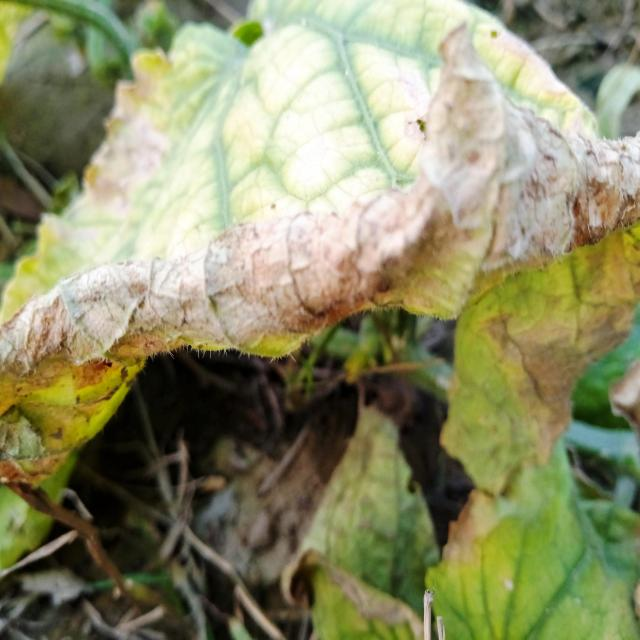Gummy-Stem-Blight: (0, 21, 640, 490)
